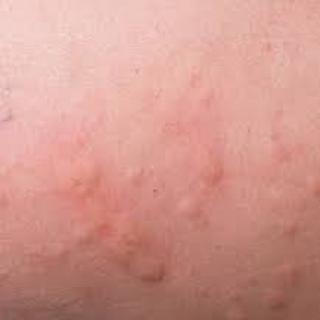urticaria: (72, 70, 280, 267)
